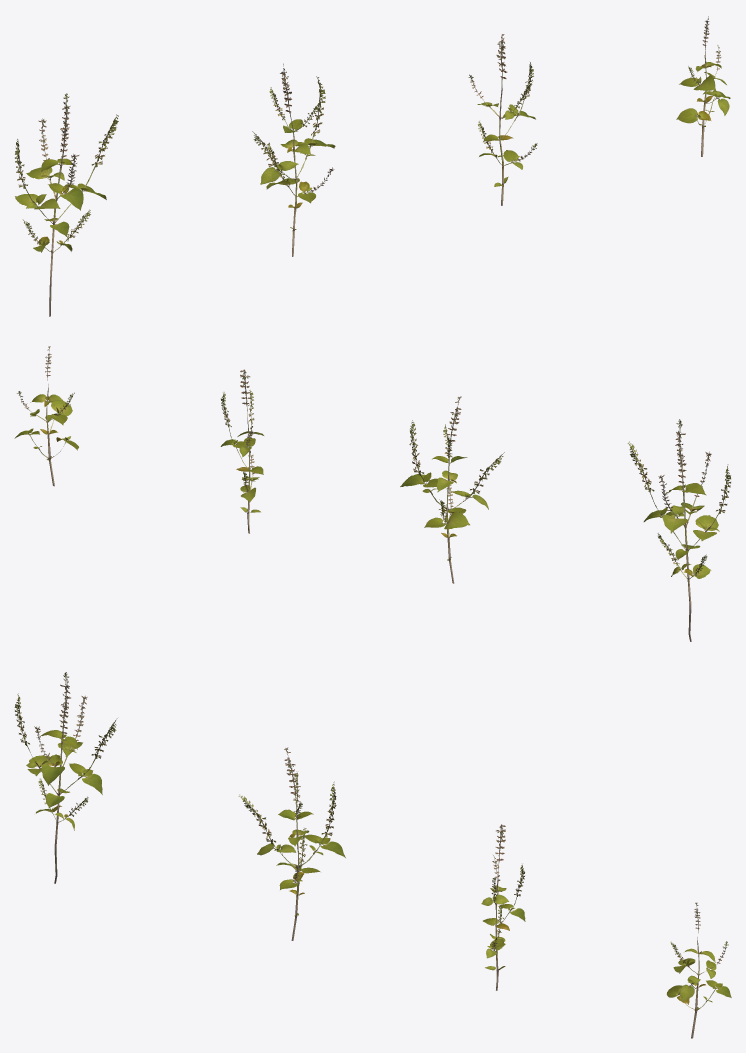
File: shrub_03.glb
3 views of the same model, one above another, from view 1: azimuth 30°, elevation 25°; view 2: azimuth 150°, elevation 25°; view 3: azimuth 330°, elevation 25° (orthographic). The views are drawn at different scales.
Parts seen in each view (by area): view 1: shrub_03_a; view 2: shrub_03_a; view 3: shrub_03_a.
Boxes of the visible parts, <box> form: shrub_03_a: <box>15,16,730,316</box>; shrub_03_a: <box>14,346,730,641</box>; shrub_03_a: <box>14,672,731,1038</box>.
Size of the model in its own units: 1.37 by 0.4029 by 0.1512.
Materials: 1 (1 with a texture image).
